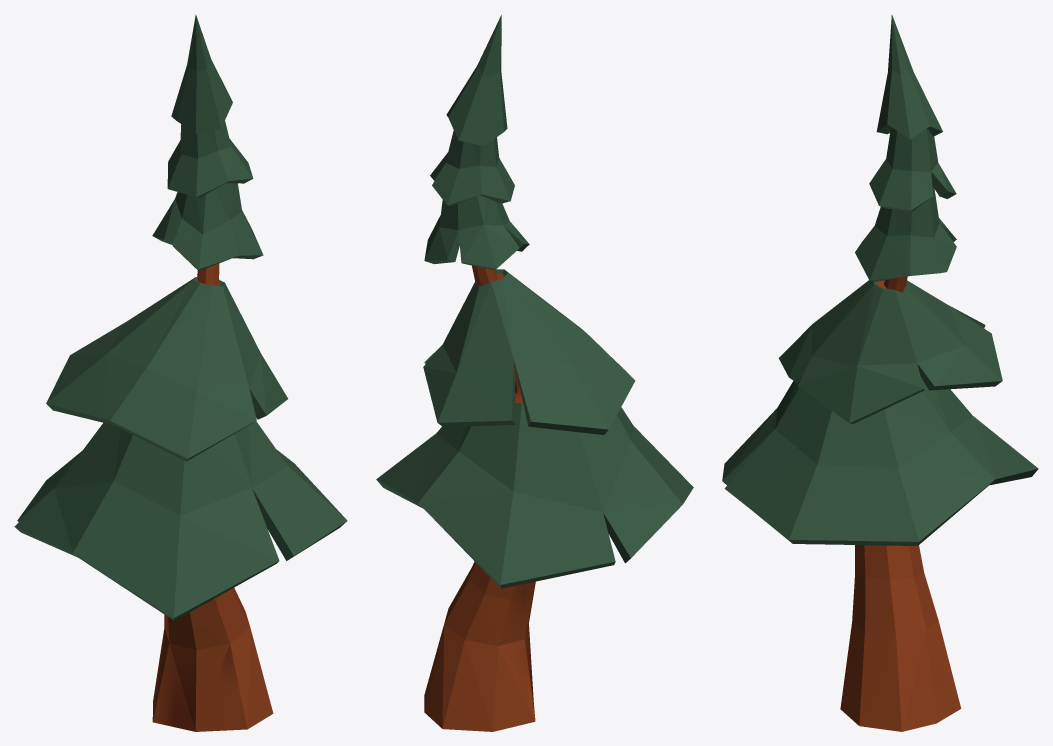
Rendered from TreePineB.FBX.
The picture shows the model from 3 angles, left to right: view 1: azimuth 30°, elevation 25°; view 2: azimuth 150°, elevation 25°; view 3: azimuth 270°, elevation 25°; orthographic projection. The views are drawn at different scales.
Parts seen in each view (by area): view 1: TreePineB; view 2: TreePineB; view 3: TreePineB.
Part boxes in pixels (bbox=[...]): TreePineB: bbox=[14, 14, 347, 731]; TreePineB: bbox=[376, 15, 693, 731]; TreePineB: bbox=[722, 15, 1038, 731].
Bounding box in the file's own units: 231 × 576 × 242.
